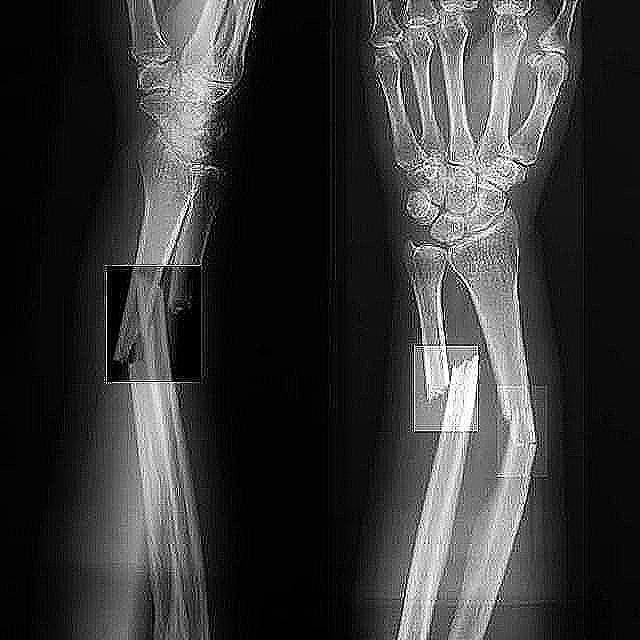bone: (108, 268, 170, 380), (414, 346, 478, 432), (498, 386, 548, 478)
